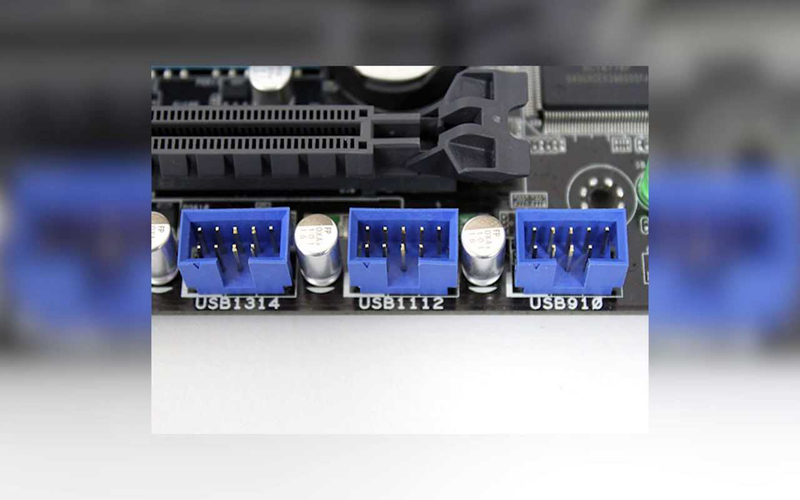Cirtuit-Board: (150, 56, 648, 333)
